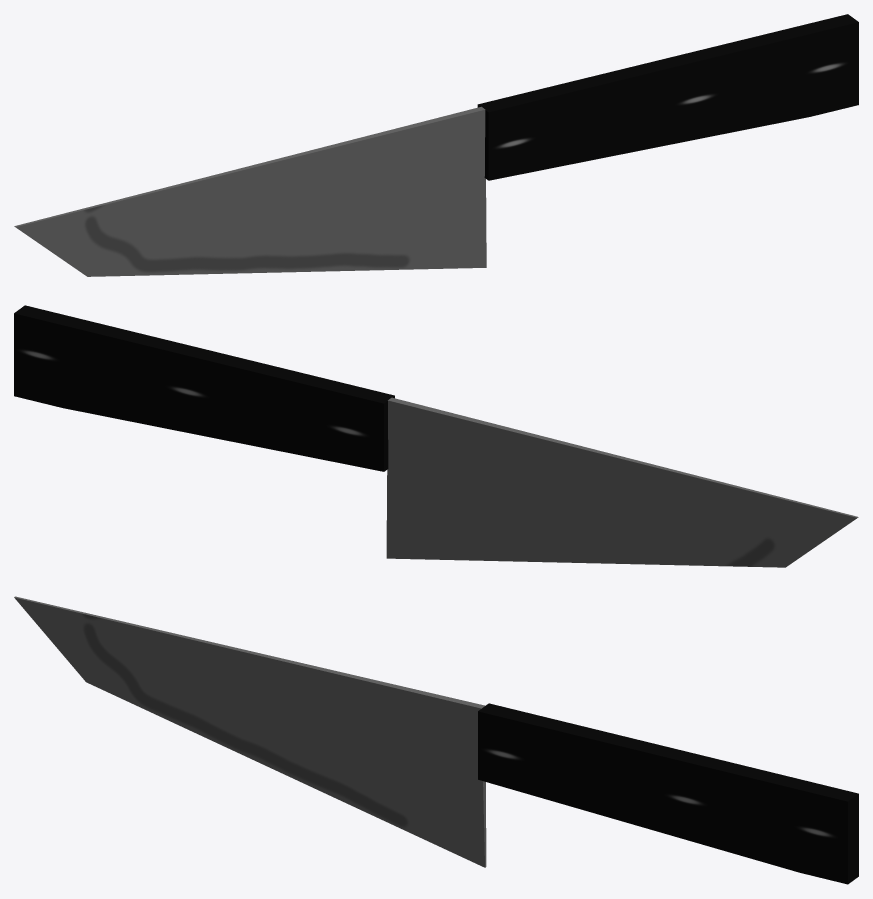
File: knife.fbx
3 views of the same model, one above another, from view 1: azimuth 30°, elevation 25°; view 2: azimuth 150°, elevation 25°; view 3: azimuth 330°, elevation 25° (orthographic).
Visible parts, largest first — view 1: 円, 立方体; view 2: 円, 立方体; view 3: 円, 立方体.
Part boxes in pixels (x1,y1,x2,y2): 円: (14, 106, 486, 276); 立方体: (477, 14, 858, 180); 円: (386, 397, 858, 567); 立方体: (14, 305, 394, 471); 円: (14, 596, 486, 867); 立方体: (478, 703, 858, 884).
Bounding box in the file's own units: 473 × 86.04 × 10.73.
2 materials, 2 textured.
